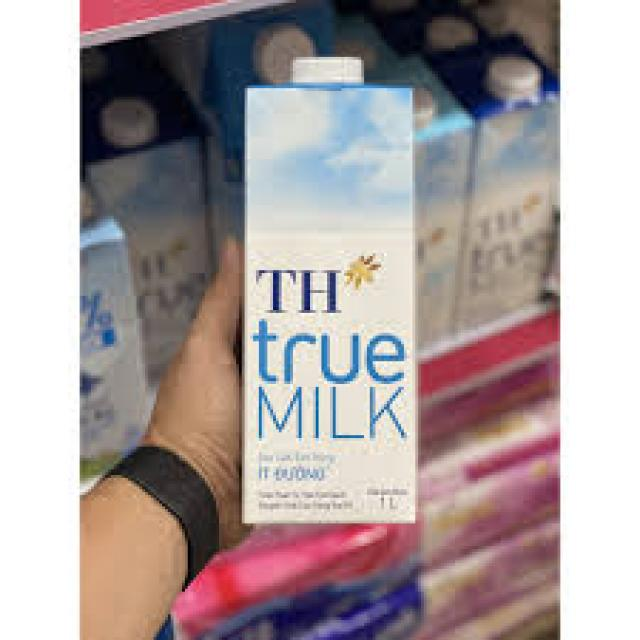non_white_jug: (210, 33, 424, 533)
